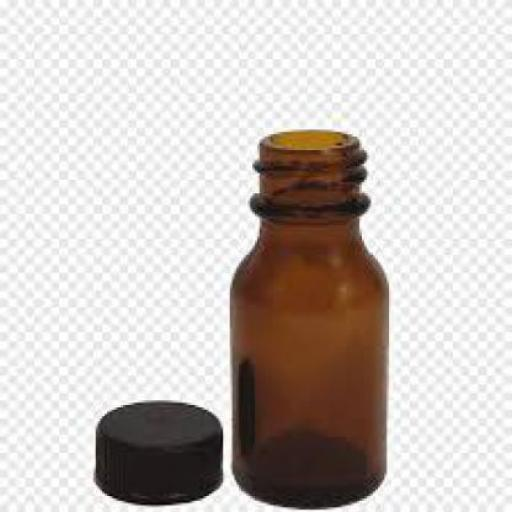glass: (230, 128, 384, 510)
plastic: (93, 398, 221, 500)
